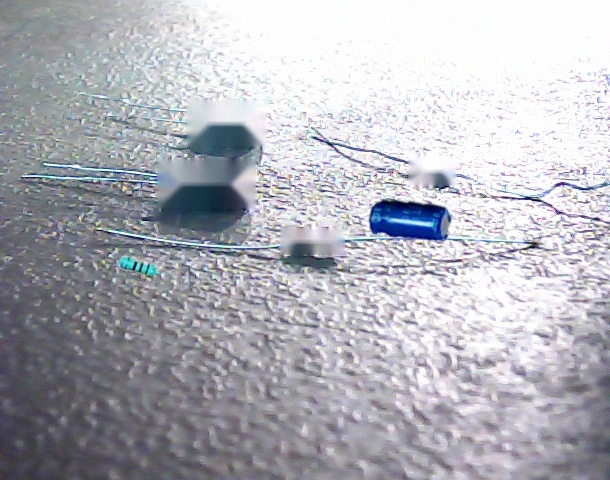capacitor: (369, 199, 451, 242)
resistor: (118, 255, 161, 277)
